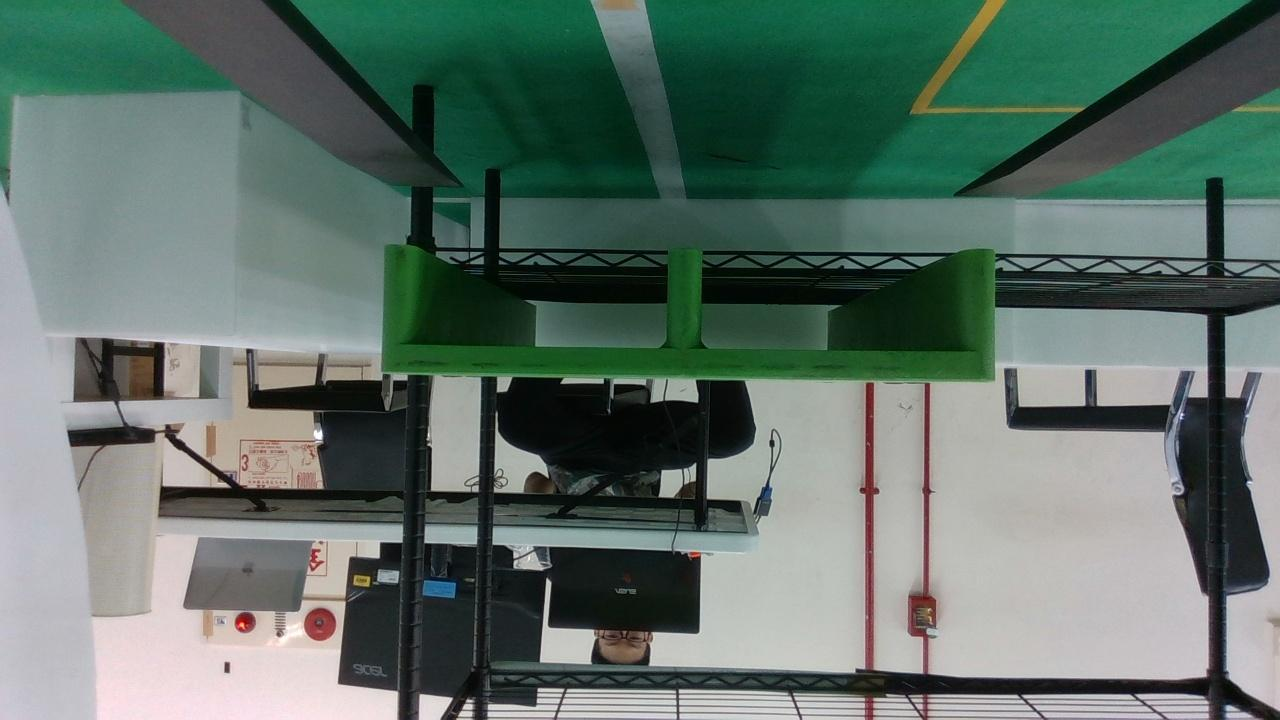Pallet: (381, 242, 996, 381)
